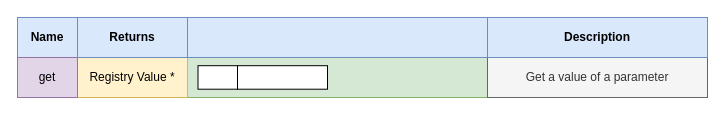
This 725x115 diagram has some shape labels left out. Here are the shapes that lost their labels. From the top down, the box of each, then its label:
(186, 16, 488, 58): Parameters
(197, 65, 238, 89): path
(236, 65, 328, 89): Registry Path
